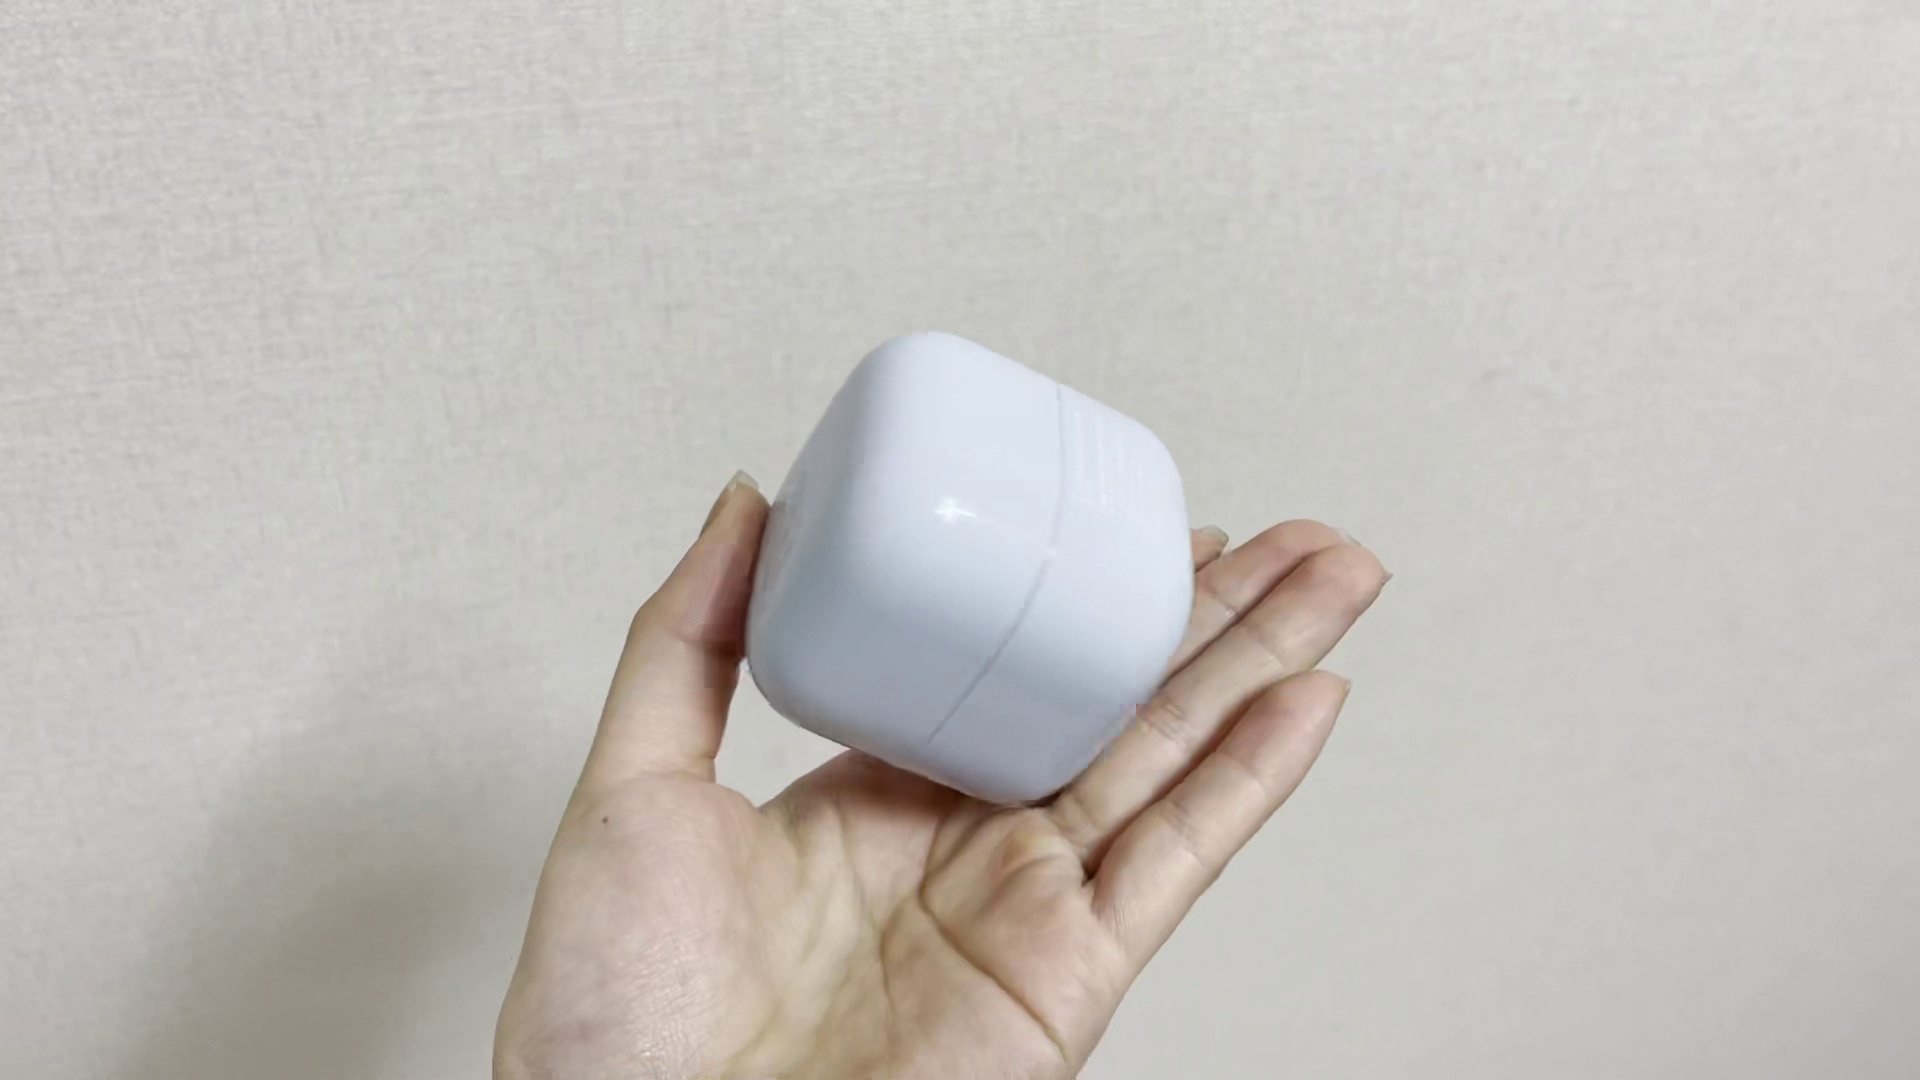cream: (746, 332, 1189, 804)
